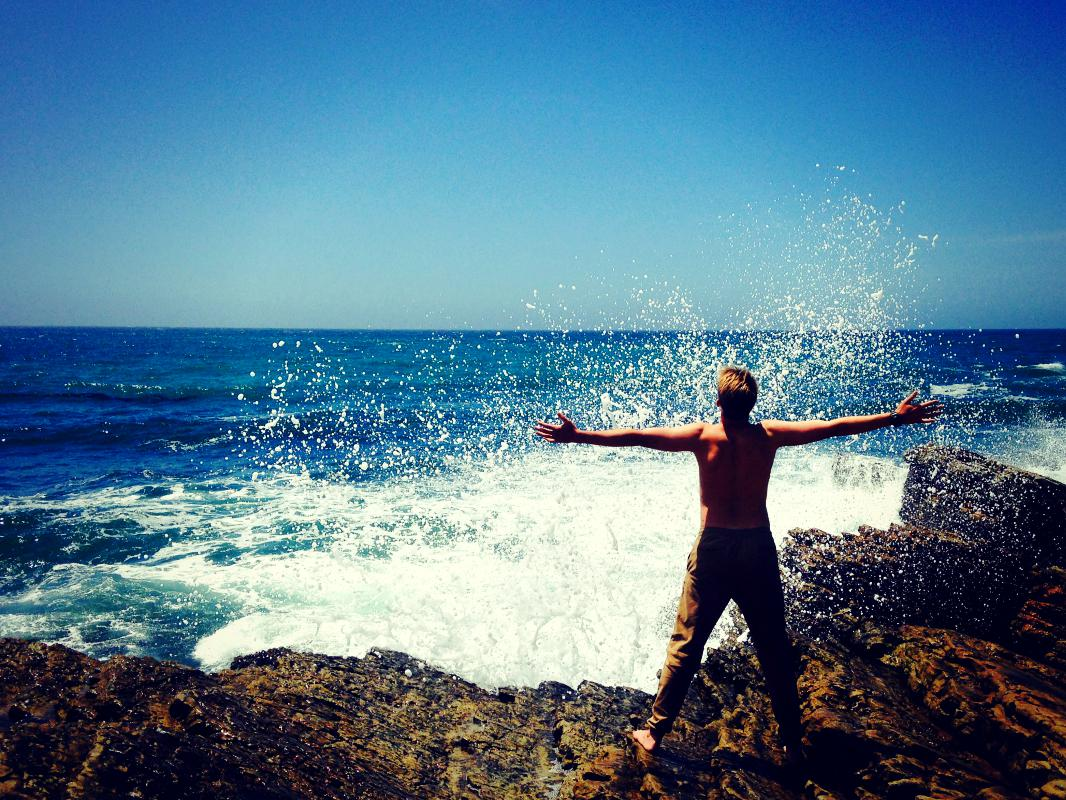Person: (523, 365, 941, 752)
